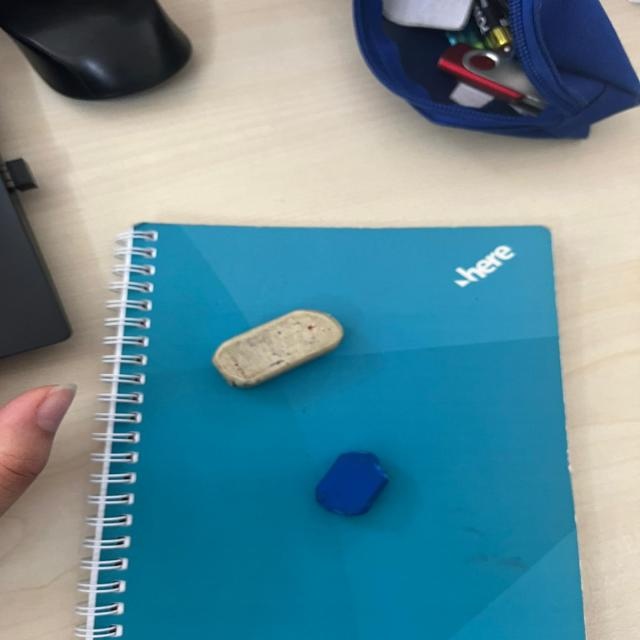eraser: (195, 305, 351, 388), (301, 433, 393, 523)
